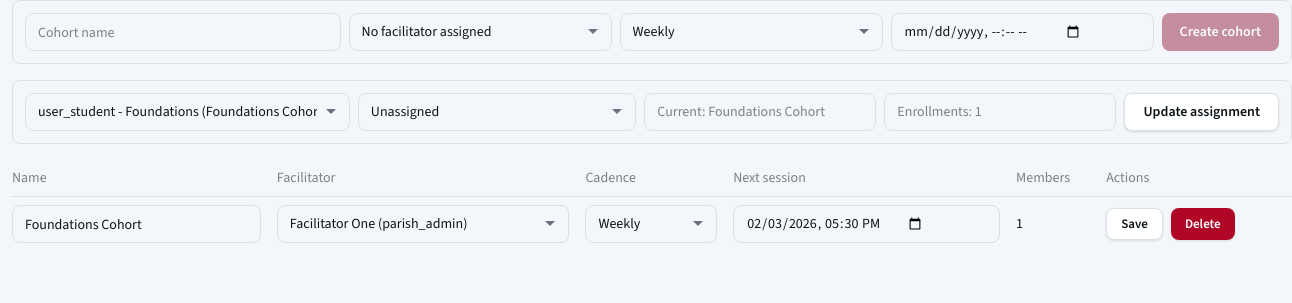
Test case: ParishCohortManager › saves existing cohort edits for users who can manage all
Click the button "Save": (1135, 224) [1106, 208, 1163, 240]
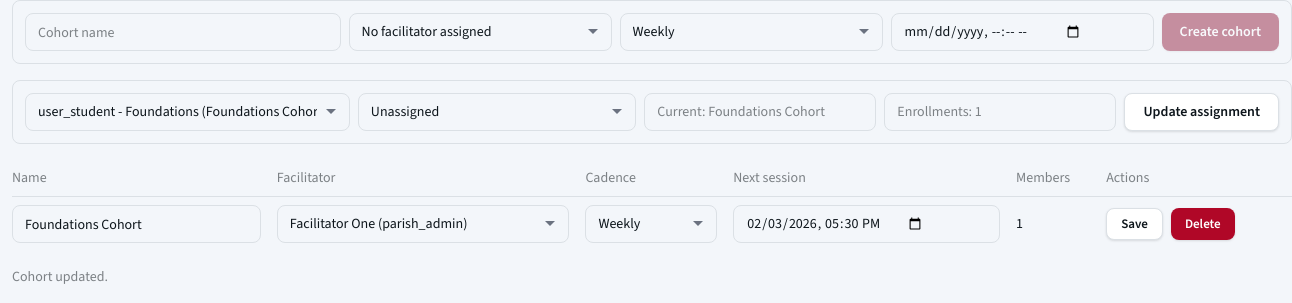
Expected: the text "Cohort updated." is shown, [12, 267, 108, 286]
